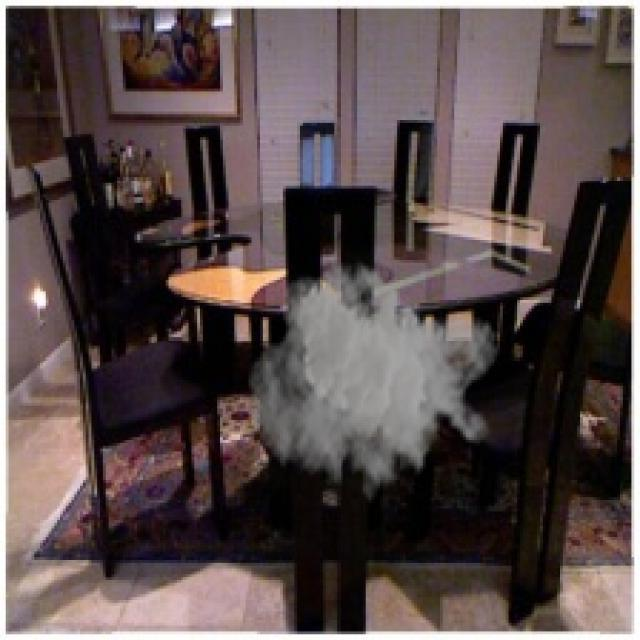Smoke: (245, 252, 500, 512)
